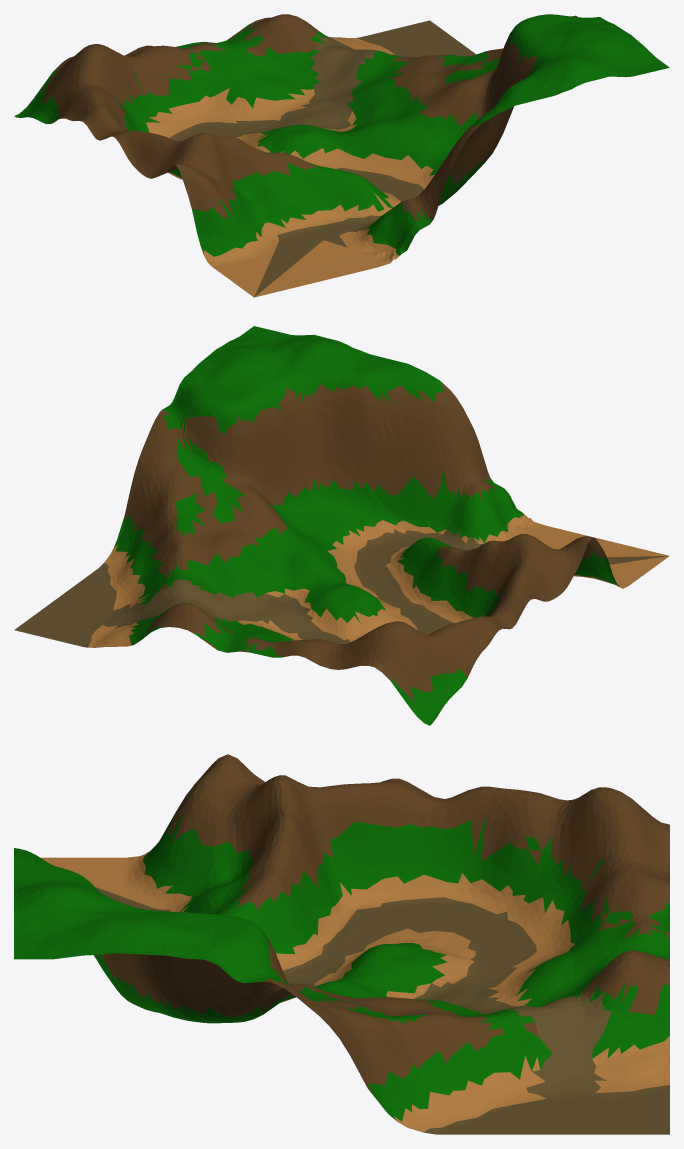
Rendered from world3.fbx.
3 views of the same model, one above another, from view 1: azimuth 30°, elevation 25°; view 2: azimuth 150°, elevation 25°; view 3: azimuth 270°, elevation 25° (orthographic). The views are drawn at different scales.
Visible parts, largest first — view 1: TERRA2; view 2: TERRA2; view 3: TERRA2.
Boxes of the visible parts, x1=… form: TERRA2: x1=14, y1=14, x2=669, y2=297; TERRA2: x1=14, y1=326, x2=669, y2=725; TERRA2: x1=14, y1=754, x2=669, y2=1134.
Bounding box in the file's own units: 20000 × 6504 × 20001.
